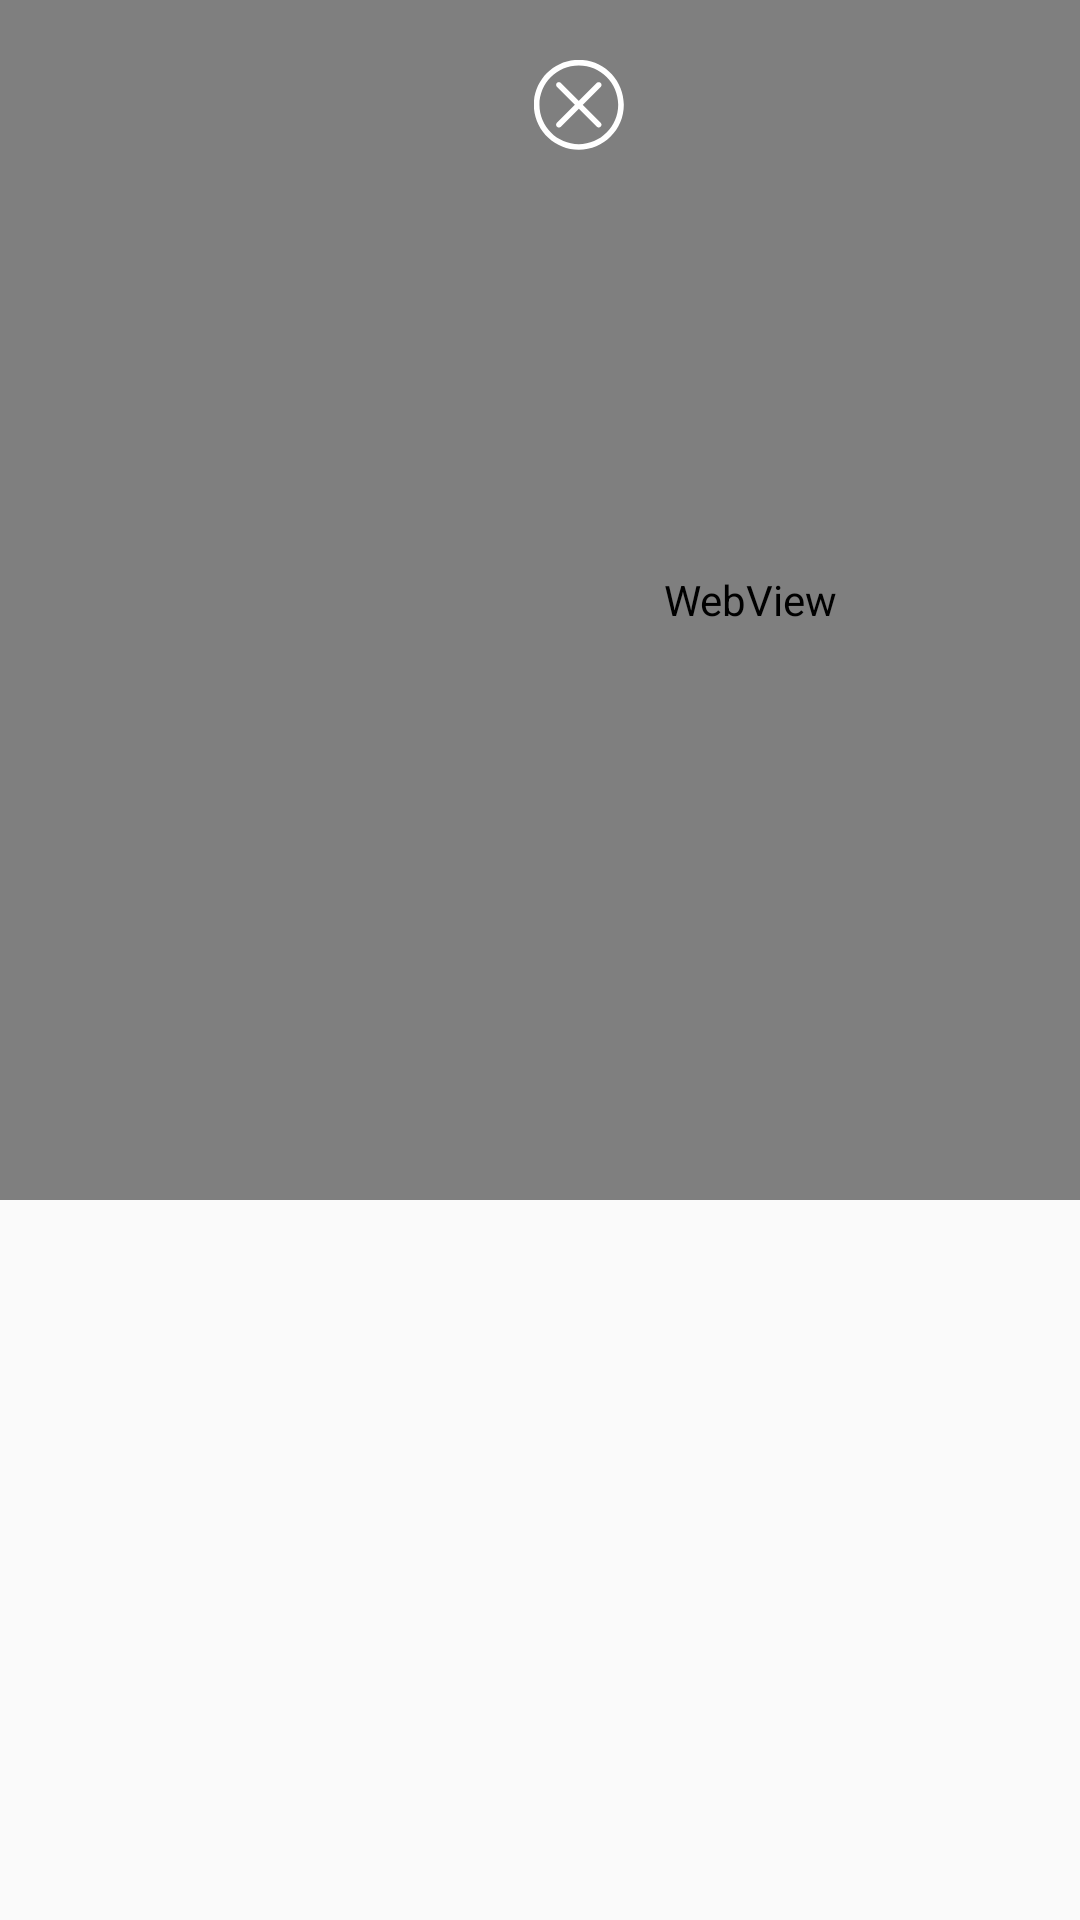

Screen size 1080w x 1920h. Icon name, then its center in pixels as point (x, y):
cancel: point (579, 105)
